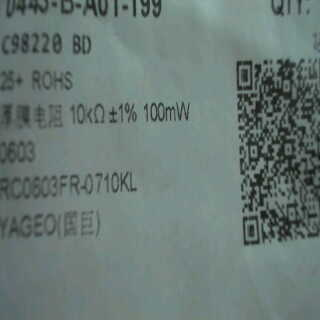10kR: (65, 100, 110, 126)
